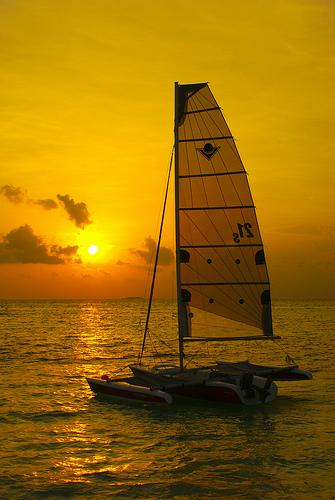Ship: (84, 82, 314, 417)
